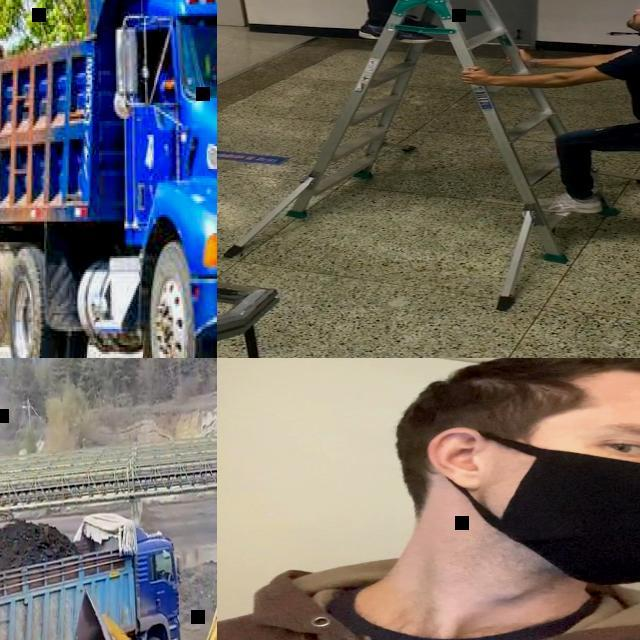Robbery: (235, 357, 640, 640), (490, 0, 640, 234), (360, 0, 470, 66)
